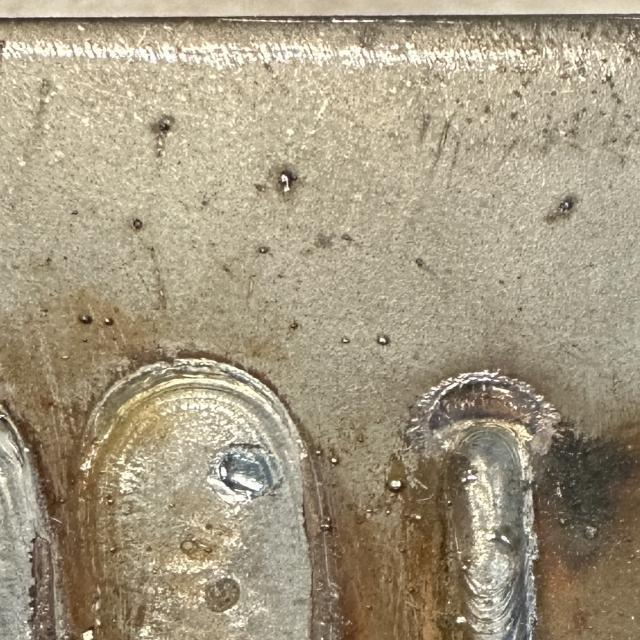Spatters: (152, 115, 175, 158), (557, 196, 577, 216), (278, 170, 295, 192), (158, 116, 173, 132), (77, 312, 95, 325), (387, 479, 405, 492), (375, 334, 392, 346), (130, 218, 145, 231), (257, 245, 272, 255), (100, 316, 115, 326), (288, 321, 300, 330), (105, 495, 115, 505), (340, 336, 352, 344), (330, 458, 340, 465), (315, 450, 325, 456)
